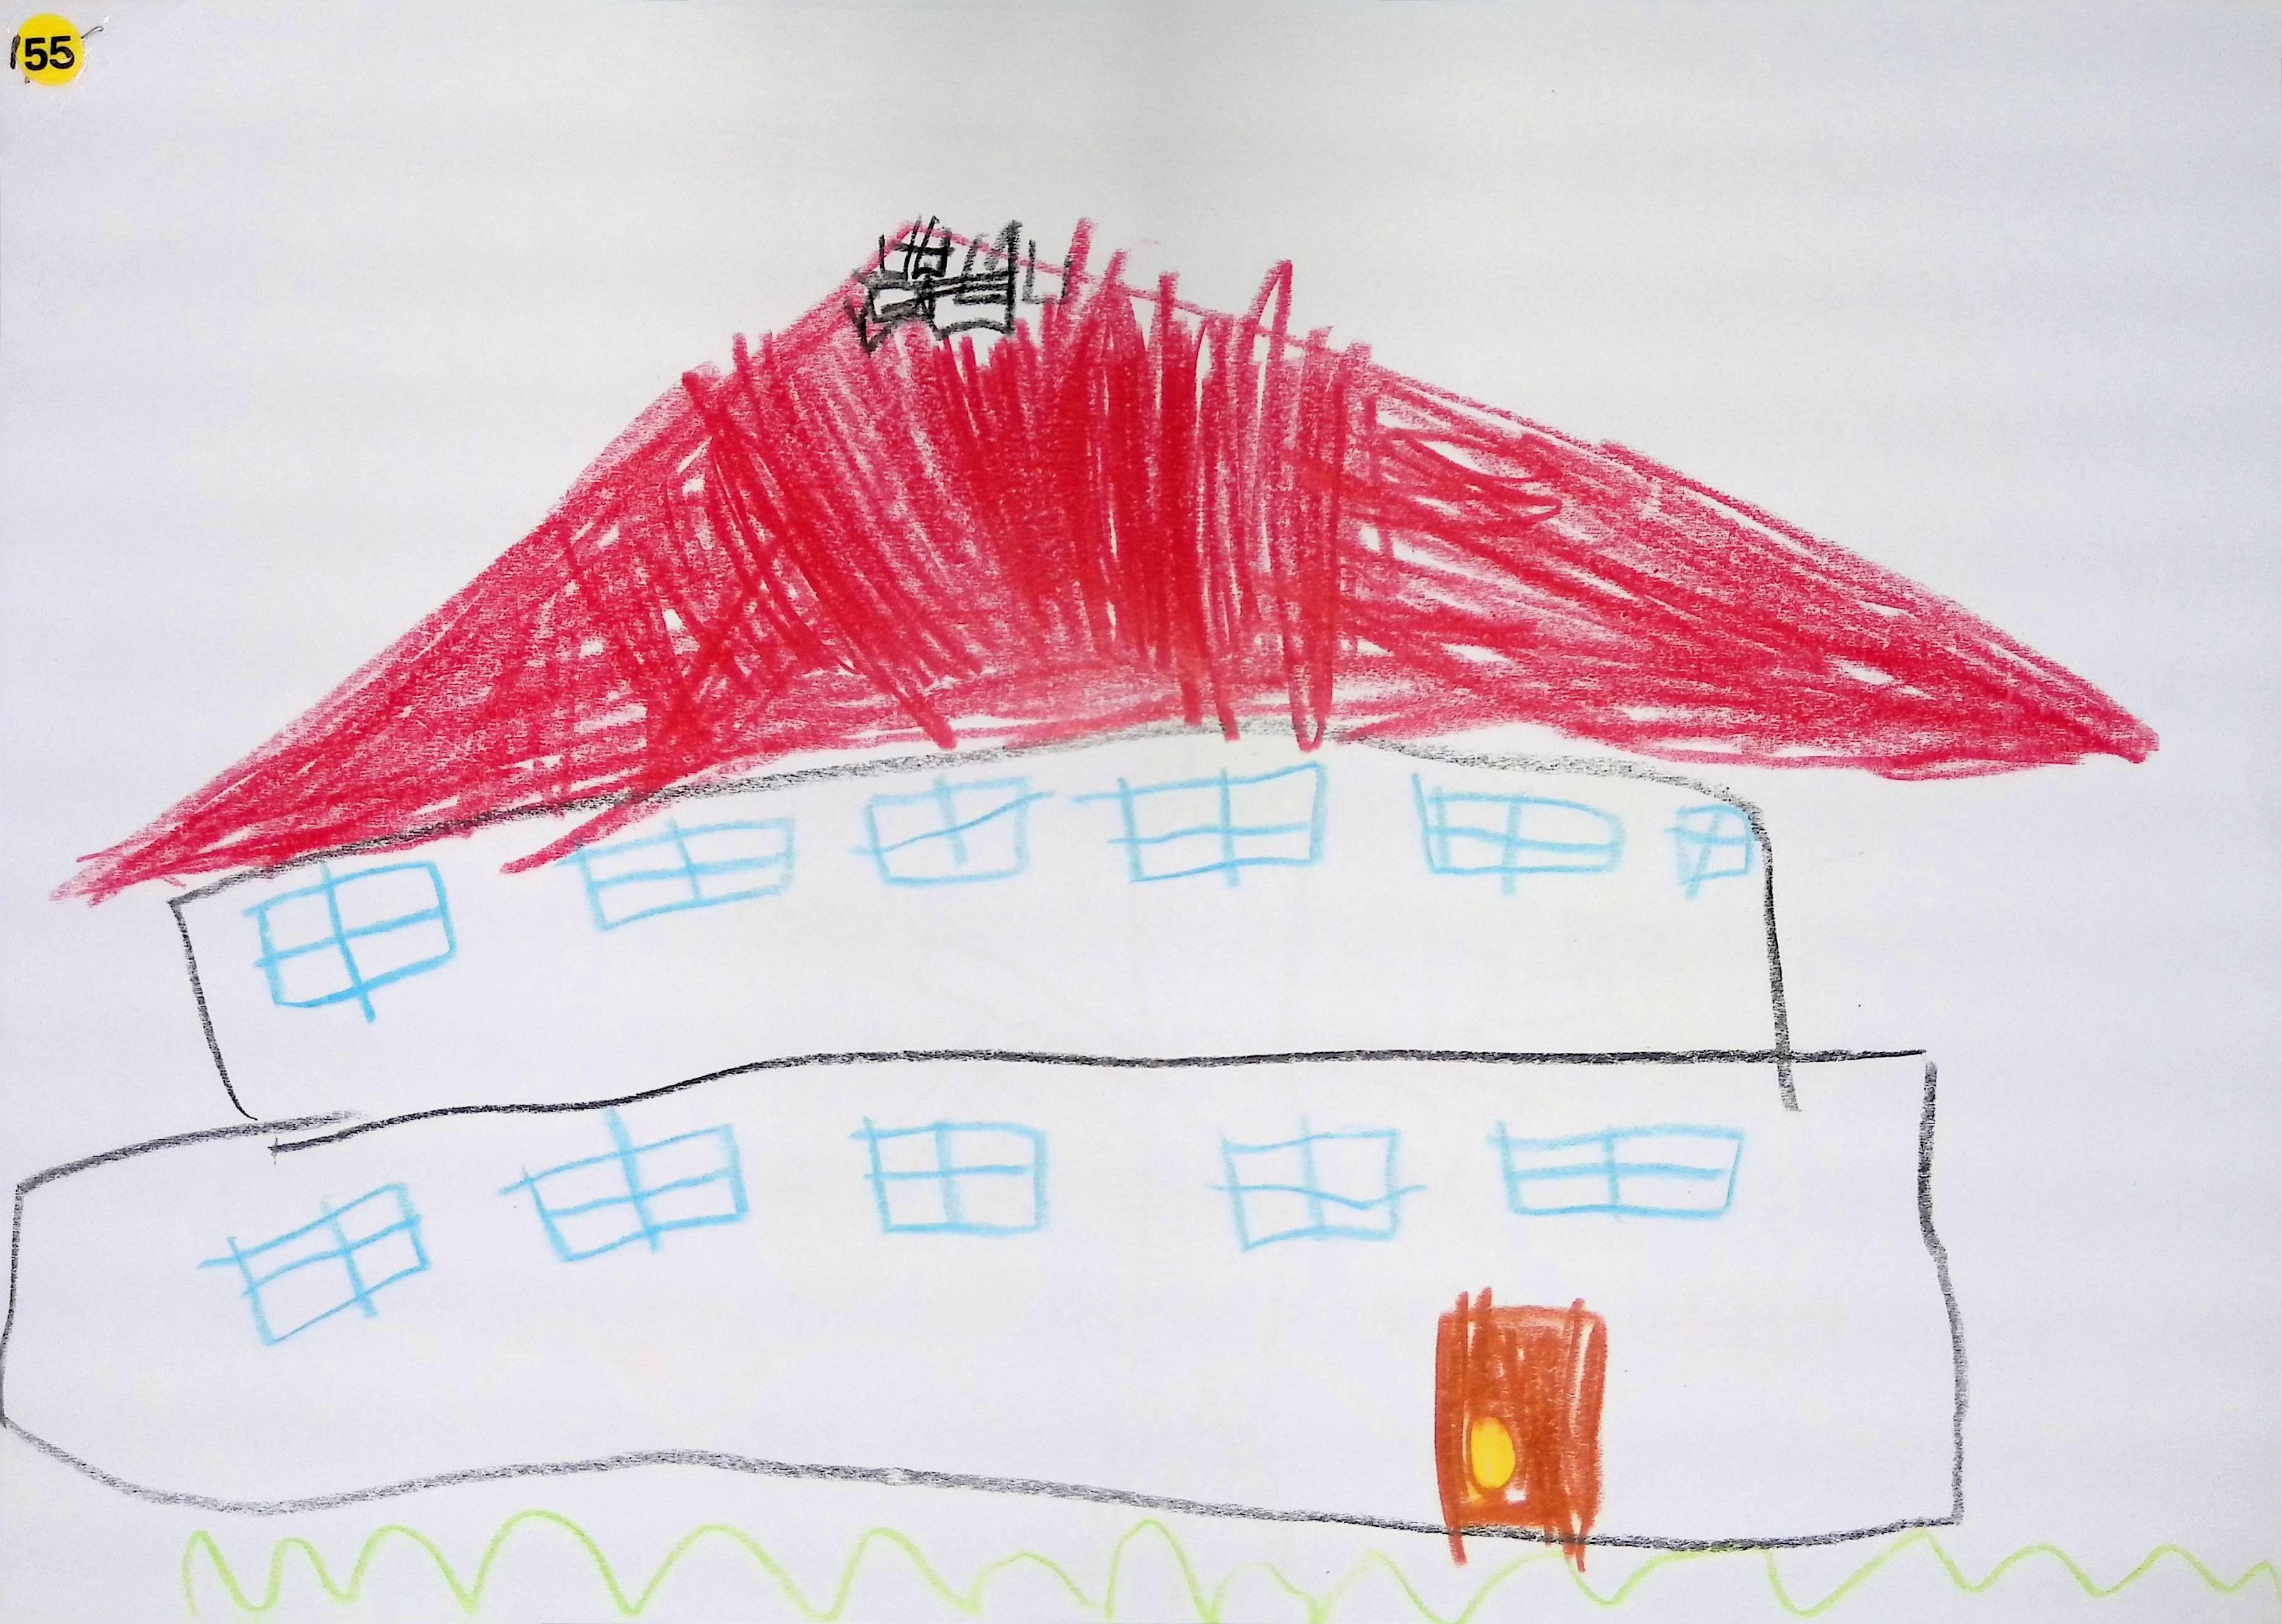door: (1436, 1290, 1609, 1573)
house: (0, 223, 2155, 1561)
roof: (63, 221, 2159, 900)
wall: (0, 731, 1966, 1548)
window: (200, 1185, 427, 1346), (499, 1127, 745, 1262), (241, 861, 454, 1005), (1217, 1123, 1424, 1251), (563, 817, 793, 930), (1120, 761, 1326, 886), (1414, 775, 1626, 895), (1498, 1123, 1746, 1220), (853, 1118, 1046, 1237), (863, 777, 1044, 884), (1670, 803, 1758, 898)
